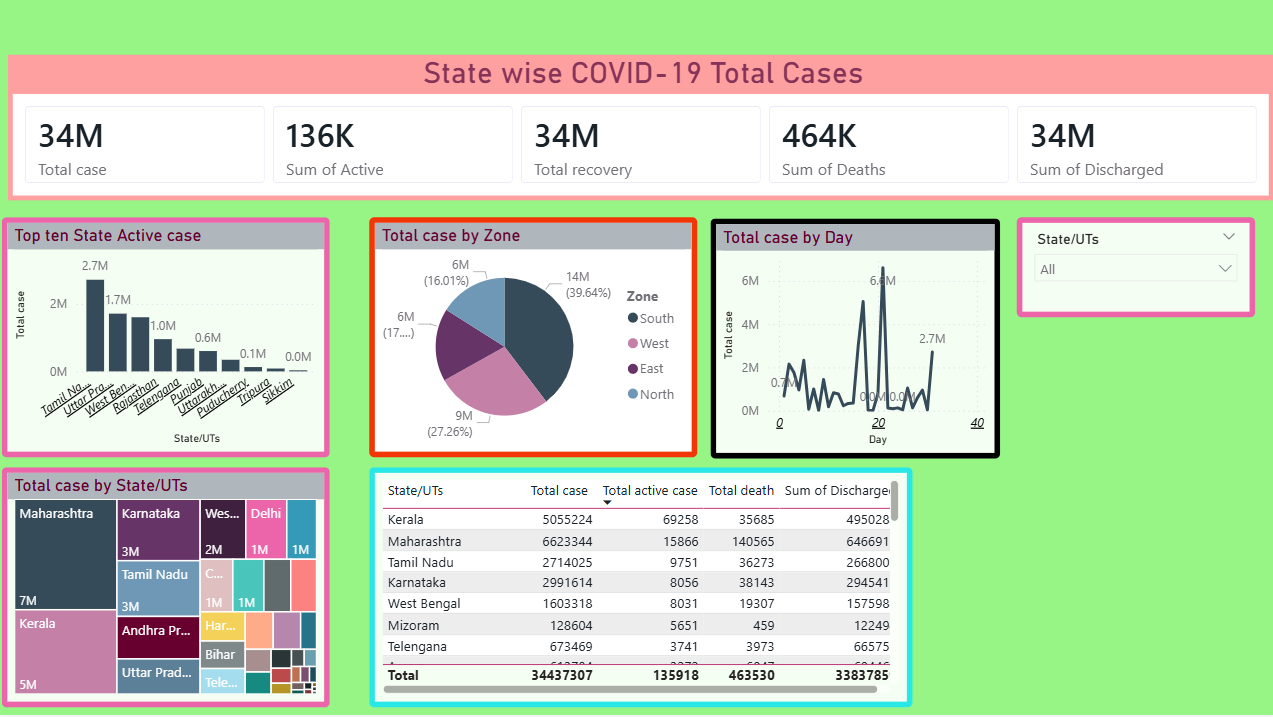

The dashboard page shown, as its layout file describes it:
{"tool":"powerbi","page":{"name":"Page 1","canvas":[1280,720],"ordinal":0},"visuals":[{"type":"barChart","title":"Top 10  Covid-19 State Sum of Active and Sum of Total Cases by State/UTs and Zone","fields":{"Category":["Active and Death.State/UTs"],"Y":["Sum(Active and Death.Active)"],"Series":["Active and Death.Zone"]},"box":[13.7,129,285.4,274.4],"z":0},{"type":"clusteredColumnChart","title":"Top 10 State Covid-19 Sum of Active, Sum of Discharged and Sum of Deaths by State/UTs","fields":{"Category":["Active and Death.State/UTs"],"Y":["Sum(Active and Death.Active)","Sum(case and recovery.Discharged)","Sum(Active and Death.Deaths)"]},"box":[317,129,343.1,274.4],"z":1000},{"type":"pieChart","fields":{"Category":["Active and Death.Zone"],"Y":["Sum(case and recovery.Total Cases)"]},"box":[967.4,126.2,299.1,288.2],"z":2000},{"type":"kpi","fields":{"Indicator":["Sum(case and recovery.Total Cases)"],"Goal":["Sum(Active and Death.Active)","Sum(case and recovery.Discharged)"],"TrendLine":["Active and Death.Deaths"]},"box":[676.5,129,281.3,285.4],"z":3000},{"type":"tableEx","fields":{"Values":["Active and Death.State/UTs","Sum(case and recovery.Total Cases)","Sum(Active and Death.Active)","Sum(case and recovery.Discharged)","Sum(Active and Death.Deaths)","Sum(Data.Active Ratio)","Sum(recovery index.Discharge Ratio)"]},"box":[126.2,437.7,841.2,282.7],"z":4000}]}

Visuals, with their boxes in screenshot pixels (x1, y1, x2, y2), scaled from the page's 1280x720 canvas onto the 1273x717 screenshot:
"Top 10  Covid-19 State Sum of Active and Sum of Total Cases by State/UTs and Zone" barChart: detection(14, 128, 297, 402)
"Top 10 State Covid-19 Sum of Active, Sum of Discharged and Sum of Deaths by State/UTs" clusteredColumnChart: detection(315, 128, 656, 402)
pieChart - Active and Death.Zone x Sum(case and recovery.Total Cases): detection(962, 126, 1260, 413)
kpi - Sum(case and recovery.Total Cases) x Sum(Active and Death.Active): detection(673, 128, 953, 413)
tableEx - Active and Death.State/UTs x Sum(case and recovery.Total Cases): detection(126, 436, 962, 716)
